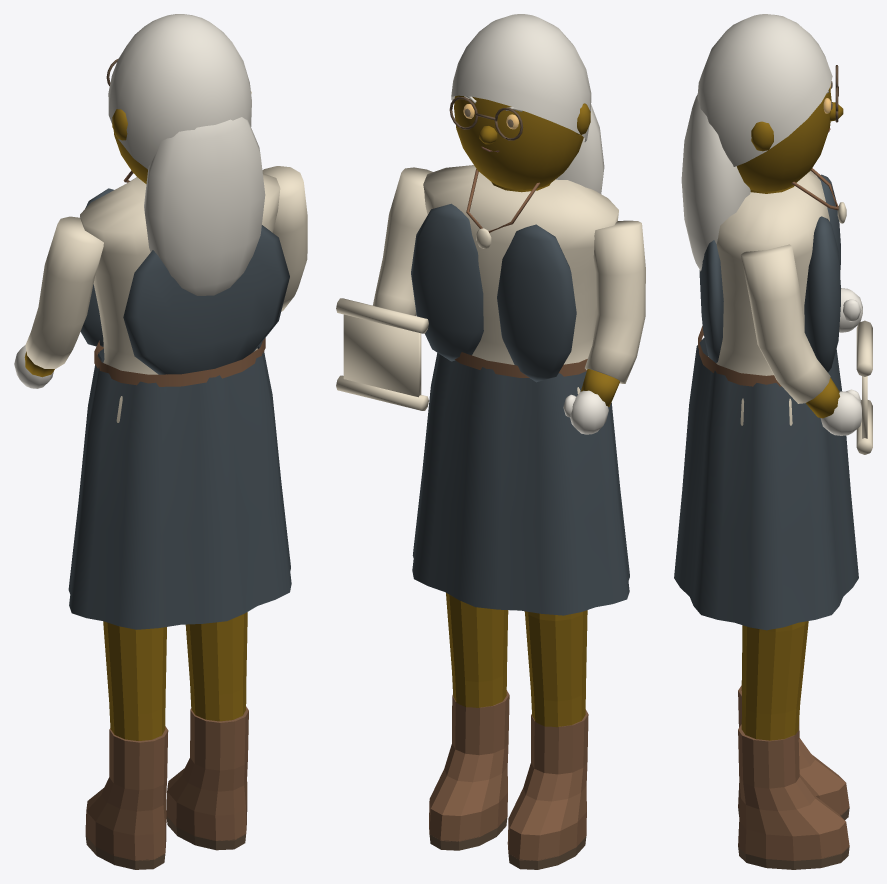
Rendered from SM_NPC_VULCANIA.glb.
3 views of the same model, side by side, from view 1: azimuth 30°, elevation 25°; view 2: azimuth 150°, elevation 25°; view 3: azimuth 270°, elevation 25° (orthographic). The views are drawn at different scales.
Parts seen in each view (by area): view 1: SM_NPC_VULCANIA_BODY, SM_NPC_VULCANIA_HAIR, SM_NPC_VULCANIA_LEG_L, SM_NPC_VULCANIA_LEG_R, SM_NPC_VULCANIA_ARM_L, SM_NPC_VULCANIA_ARM_R, SM_NPC_VULCANIA_HEAD; view 2: SM_NPC_VULCANIA_BODY, SM_NPC_VULCANIA_LEG_L, SM_NPC_VULCANIA_LEG_R, SM_NPC_VULCANIA_HAIR, SM_NPC_VULCANIA_ARM_R, SM_NPC_VULCANIA_ARM_L, SM_NPC_VULCANIA_HEAD; view 3: SM_NPC_VULCANIA_BODY, SM_NPC_VULCANIA_HAIR, SM_NPC_VULCANIA_LEG_R, SM_NPC_VULCANIA_ARM_R, SM_NPC_VULCANIA_HEAD, SM_NPC_VULCANIA_LEG_L, SM_NPC_VULCANIA_ARM_L.
Boxes of the visible parts, box(x1,y1,x2,y2) form: SM_NPC_VULCANIA_BODY: box(68, 170, 291, 629); SM_NPC_VULCANIA_HAIR: box(108, 14, 265, 295); SM_NPC_VULCANIA_LEG_L: box(85, 621, 168, 869); SM_NPC_VULCANIA_LEG_R: box(166, 612, 248, 850); SM_NPC_VULCANIA_ARM_L: box(14, 216, 103, 388); SM_NPC_VULCANIA_ARM_R: box(262, 166, 307, 311); SM_NPC_VULCANIA_HEAD: box(106, 58, 251, 183); SM_NPC_VULCANIA_BODY: box(411, 165, 629, 615); SM_NPC_VULCANIA_LEG_L: box(507, 610, 588, 869); SM_NPC_VULCANIA_LEG_R: box(429, 593, 509, 850); SM_NPC_VULCANIA_HAIR: box(451, 14, 604, 193); SM_NPC_VULCANIA_ARM_R: box(336, 167, 432, 410); SM_NPC_VULCANIA_ARM_L: box(563, 220, 645, 434); SM_NPC_VULCANIA_HEAD: box(449, 95, 590, 189); SM_NPC_VULCANIA_BODY: box(674, 168, 858, 630); SM_NPC_VULCANIA_HAIR: box(681, 14, 832, 271); SM_NPC_VULCANIA_LEG_R: box(738, 621, 849, 869); SM_NPC_VULCANIA_ARM_R: box(741, 244, 872, 454); SM_NPC_VULCANIA_HEAD: box(737, 65, 843, 191); SM_NPC_VULCANIA_LEG_L: box(738, 625, 849, 819); SM_NPC_VULCANIA_ARM_L: box(839, 288, 862, 332).
Size of the model in its own units: 0.6101 by 1.81 by 0.3997.
